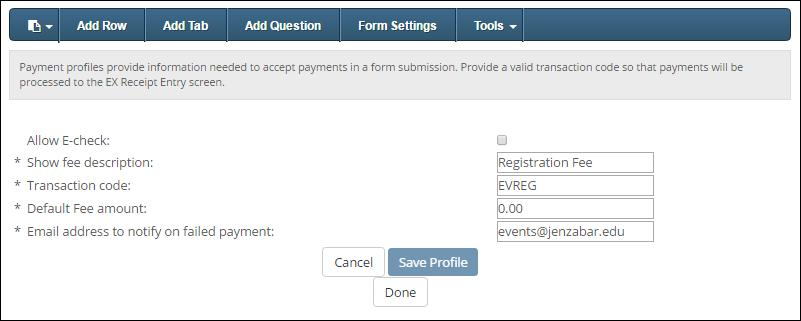button: (58, 1, 145, 46), (147, 2, 228, 50), (386, 242, 480, 274), (315, 240, 389, 278), (366, 275, 434, 308)
checkbox: (486, 133, 515, 150)
dropdown: (5, 1, 59, 47), (456, 9, 527, 41)
textbox: (486, 151, 659, 174), (496, 196, 658, 218)
